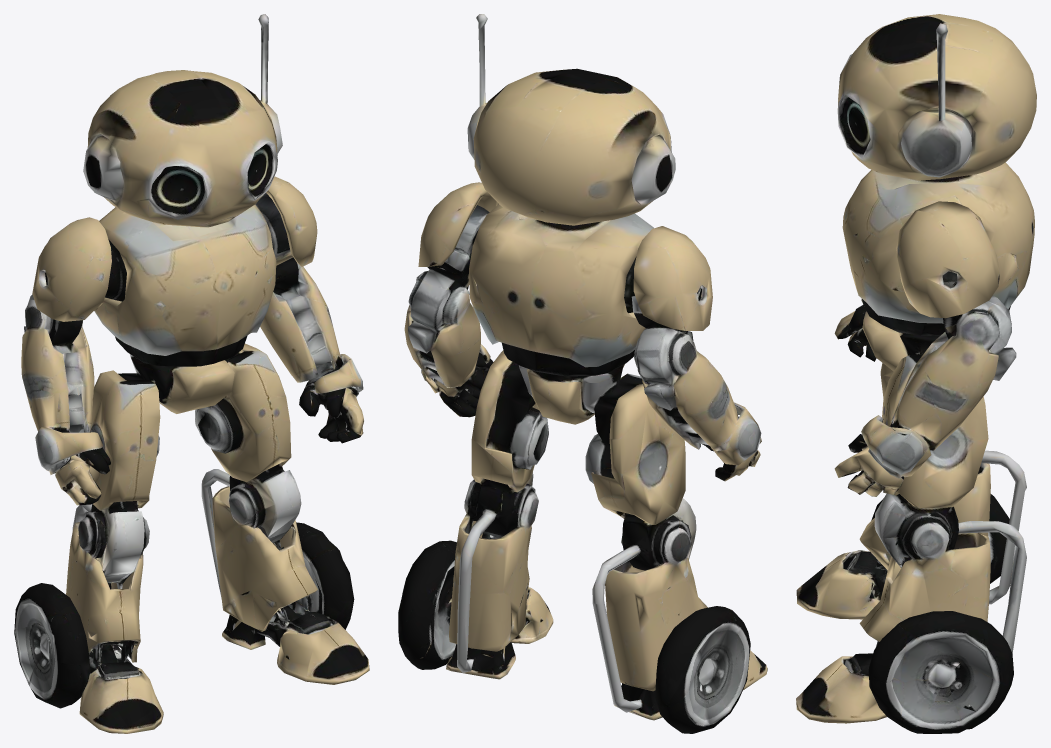
Rendered from ur_changer_robot.glb.
3 views of the same model, side by side, from view 1: azimuth 30°, elevation 25°; view 2: azimuth 150°, elevation 25°; view 3: azimuth 270°, elevation 25° (orthographic). The views are drawn at different scales.
Size of the model in its own units: 0.9944 by 1.9 by 0.6082.
1 material, 1 textured.
